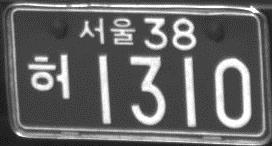0: (212, 56, 253, 129)
1: (178, 54, 204, 130), (92, 51, 117, 128)
3: (127, 54, 167, 126), (140, 15, 169, 51)
8: (170, 17, 198, 51)
서울_O: (77, 16, 137, 48)
허: (27, 52, 72, 103)
